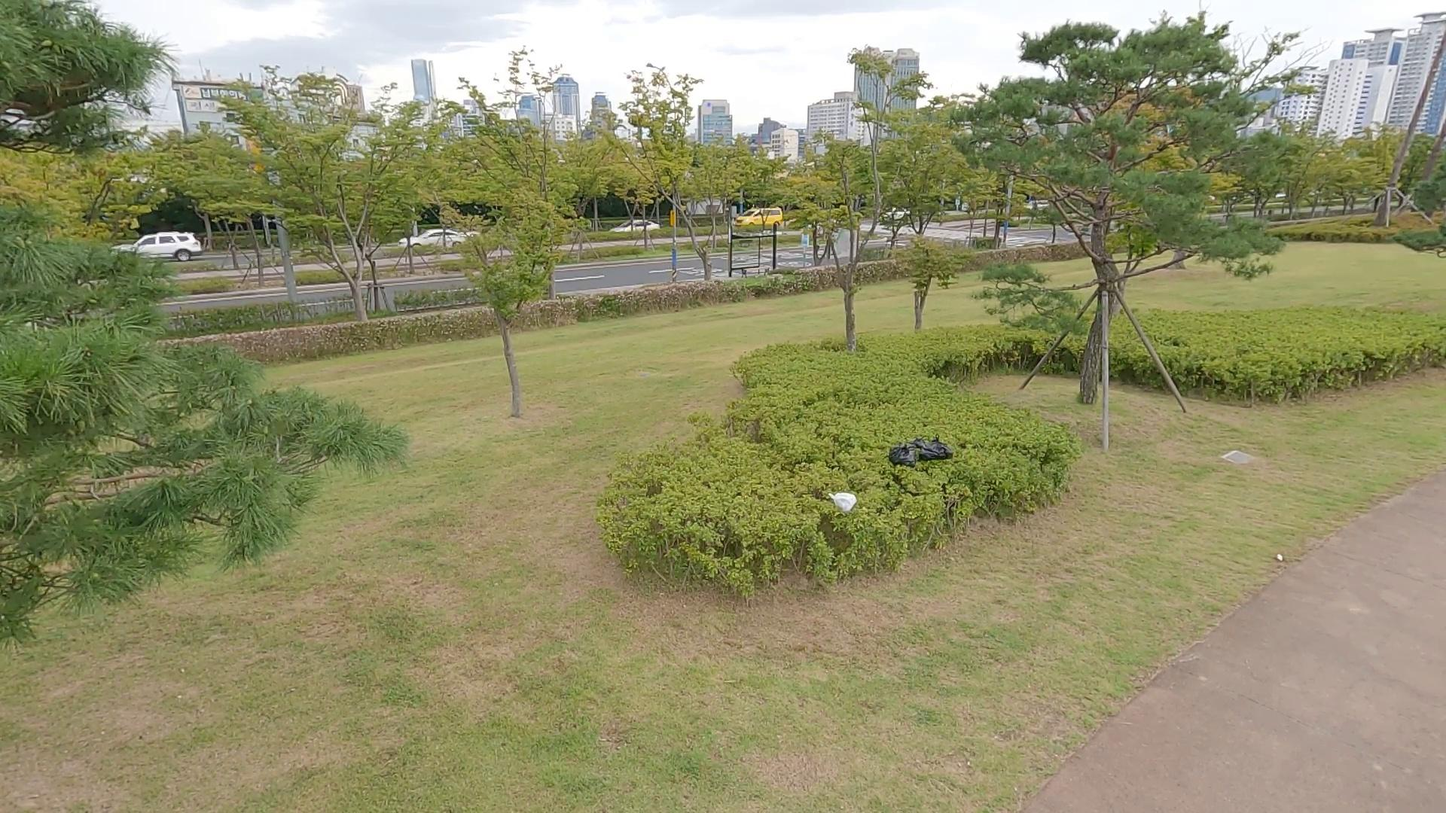trash: (909, 434, 944, 468), (883, 444, 923, 472), (824, 485, 863, 513), (920, 431, 955, 460)
